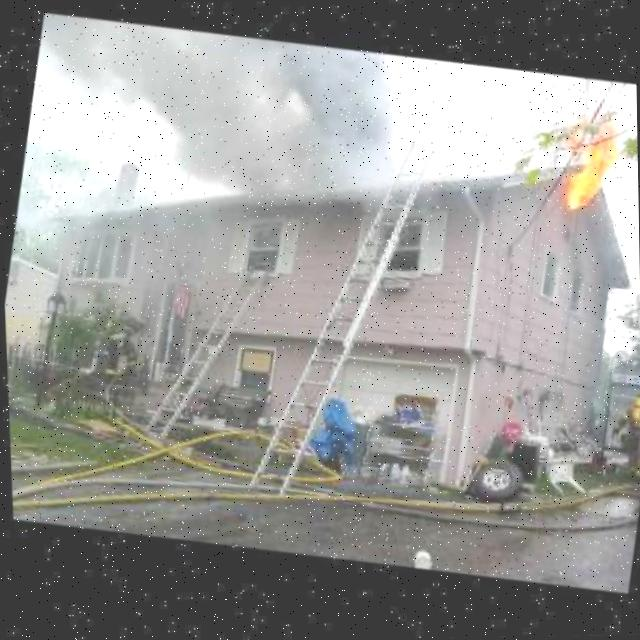fire: (12, 0, 410, 230), (549, 127, 619, 217)
